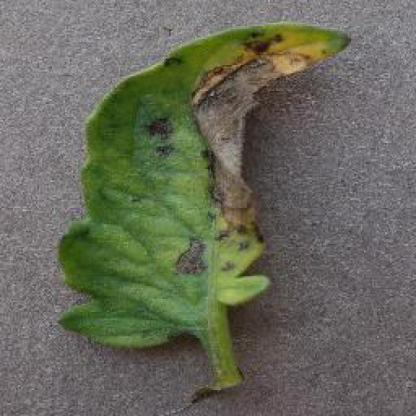Tomato_Blight: (60, 24, 354, 350)
